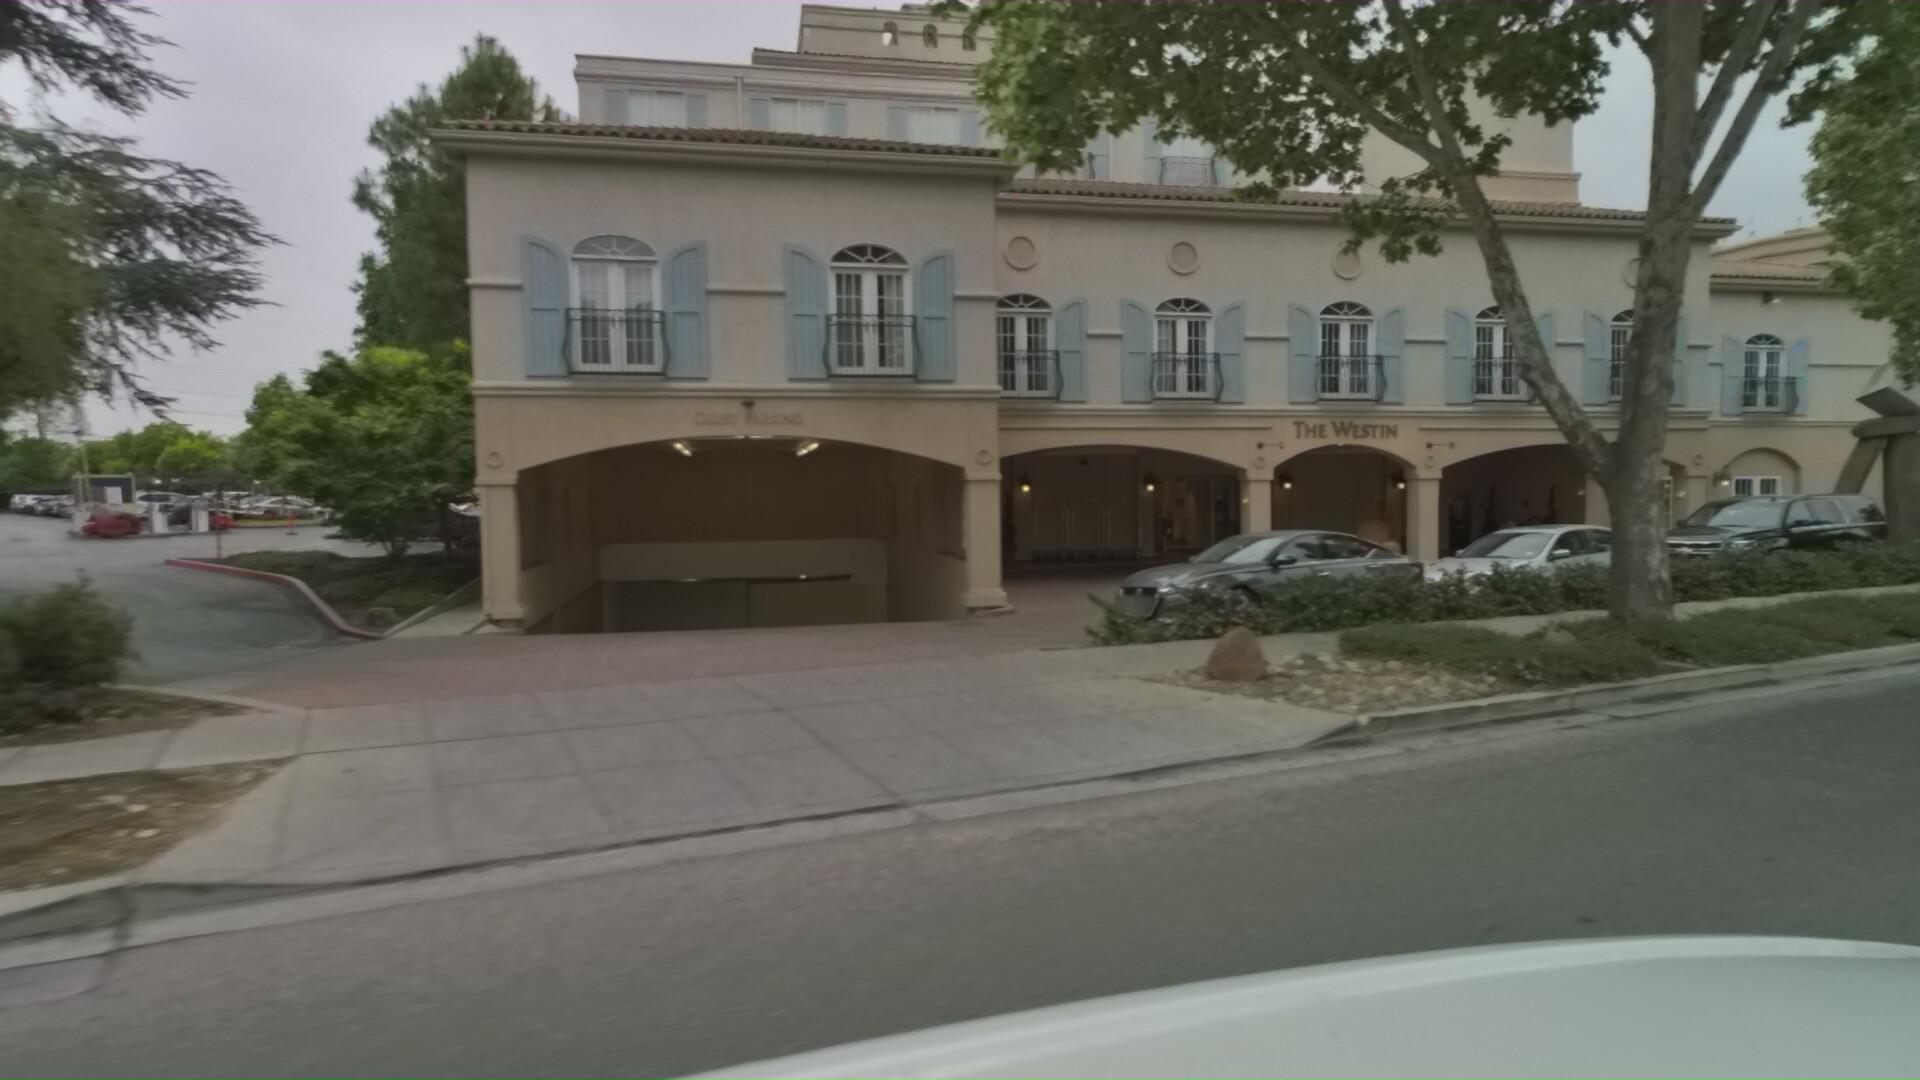car: (1145, 514, 1478, 628), (1635, 487, 1916, 597), (1422, 512, 1701, 620)
